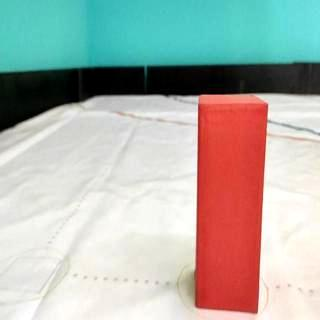redbox: (195, 96, 262, 312)
